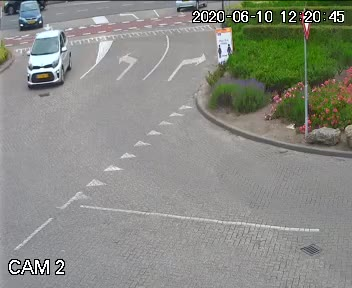car: (26, 27, 77, 88), (2, 0, 51, 18), (15, 1, 46, 29)
